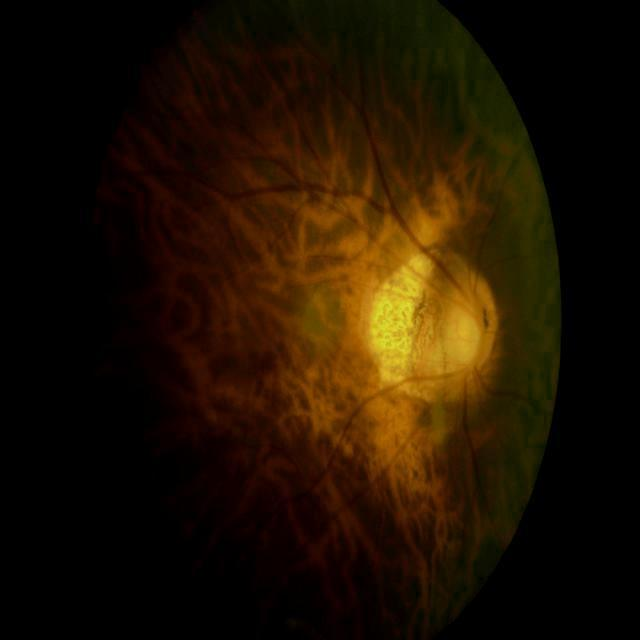cup: (444, 298, 482, 367)
disk: (432, 268, 497, 394)
